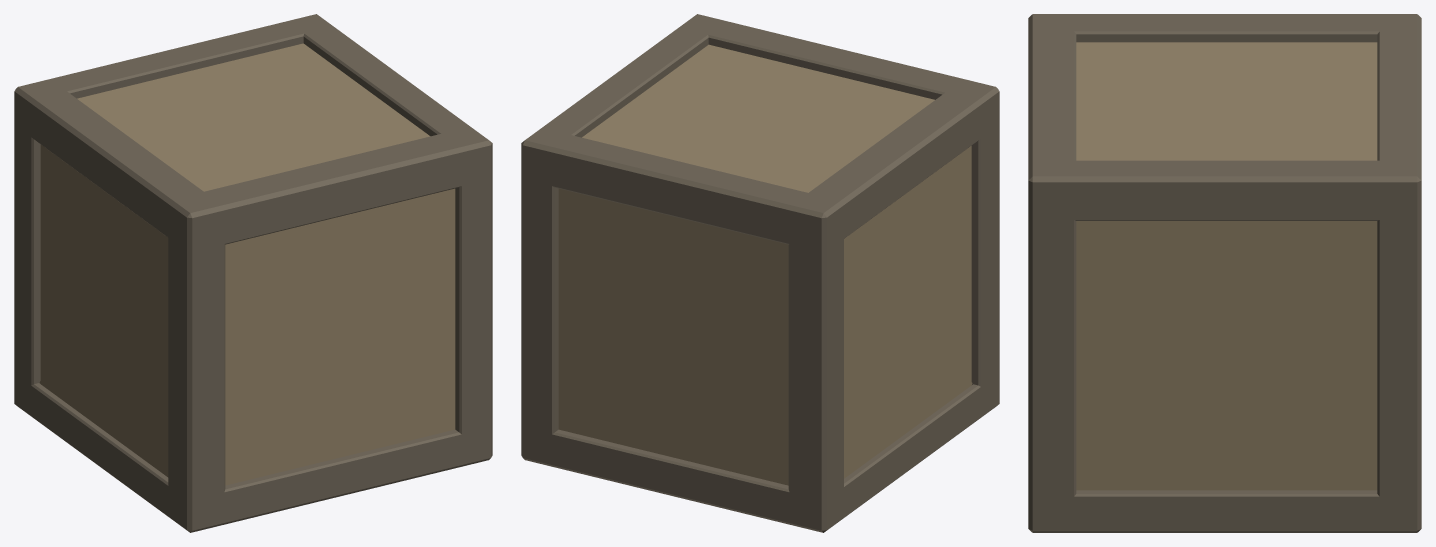
Rendered from crate1.fbx.
3 renders of one model, left to right at view 1: azimuth 30°, elevation 25°; view 2: azimuth 150°, elevation 25°; view 3: azimuth 270°, elevation 25°, orthographic. The views are drawn at different scales.
Visible parts, largest first — view 1: crate3; view 2: crate3; view 3: crate3.
Part boxes in pixels (x1,y1,x2,y2): crate3: (14, 14, 492, 532); crate3: (521, 14, 999, 532); crate3: (1028, 14, 1421, 532).
Size of the model in its own units: 72.87 by 72.87 by 72.87.
